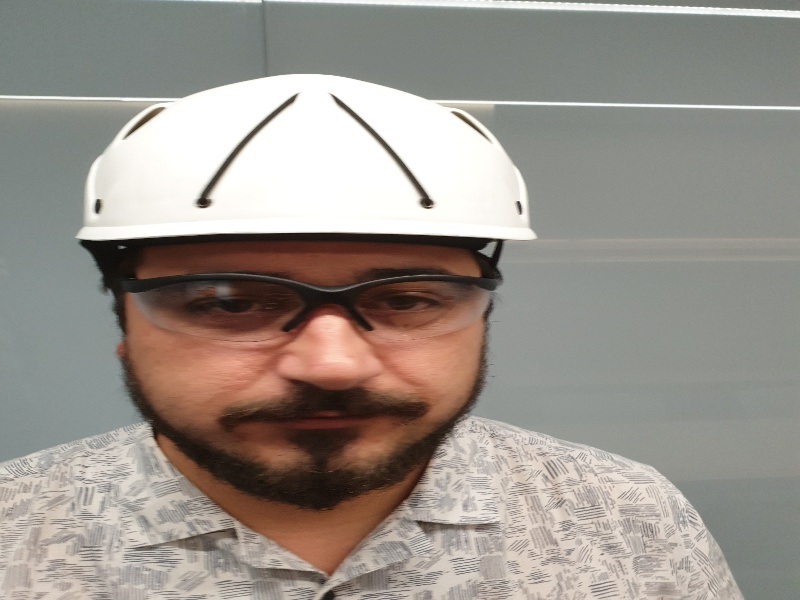Baret: (81, 81, 533, 245)
Gozluk: (108, 273, 499, 341)
